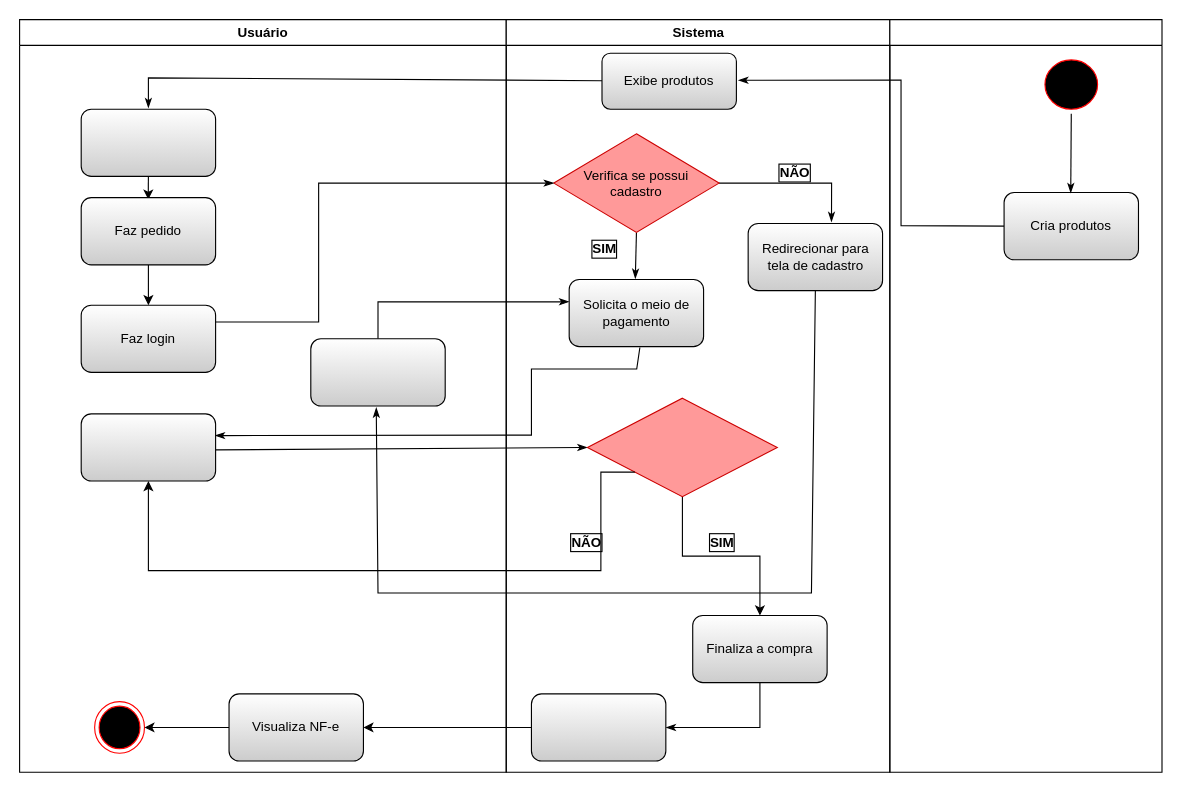
This 1182x792 diagram has some shape labels left out. The box of each missing label's shape, as (x1, y1, x2, y2) in pixels:
Administrador: (889, 18, 1162, 772)
Emite NF-e: (530, 693, 666, 761)
Escolhe o meio de pagamento: (80, 413, 216, 481)
Fazer o cadastro: (310, 338, 445, 406)
Verifica se meio de pagamento é válido: (586, 397, 777, 497)
visualiza produto: (80, 108, 216, 176)
